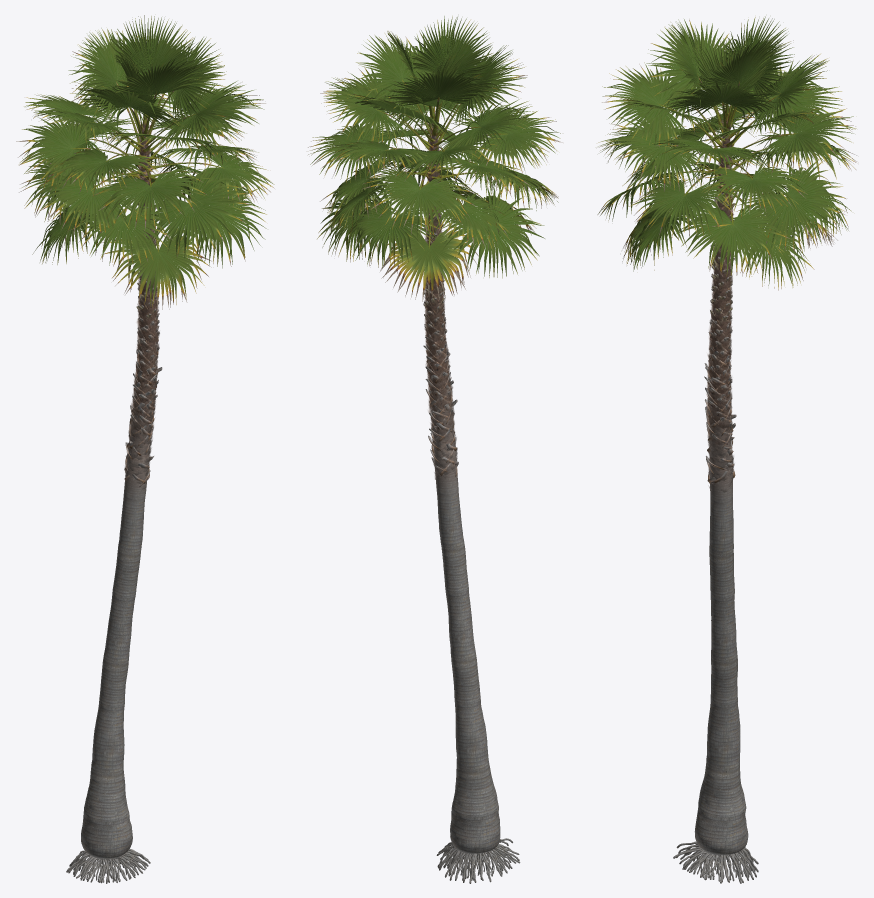
Rendered from mexican_fan_palm.glb.
3 views of the same model, side by side, from view 1: azimuth 30°, elevation 25°; view 2: azimuth 150°, elevation 25°; view 3: azimuth 270°, elevation 25° (orthographic). The views are drawn at different scales.
Parts seen in each view (by area): view 1: Washingtonia_robusta_HD_V2; view 2: Washingtonia_robusta_HD_V2; view 3: Washingtonia_robusta_HD_V2.
Boxes of the visible parts, left/top/right/bottom form: Washingtonia_robusta_HD_V2: left=16, top=15, right=274, bottom=883; Washingtonia_robusta_HD_V2: left=308, top=16, right=562, bottom=883; Washingtonia_robusta_HD_V2: left=597, top=16, right=856, bottom=883.
Size of the model in its own units: 0.9887 by 3.54 by 0.9814.
Materials: 23 (23 with a texture image).
